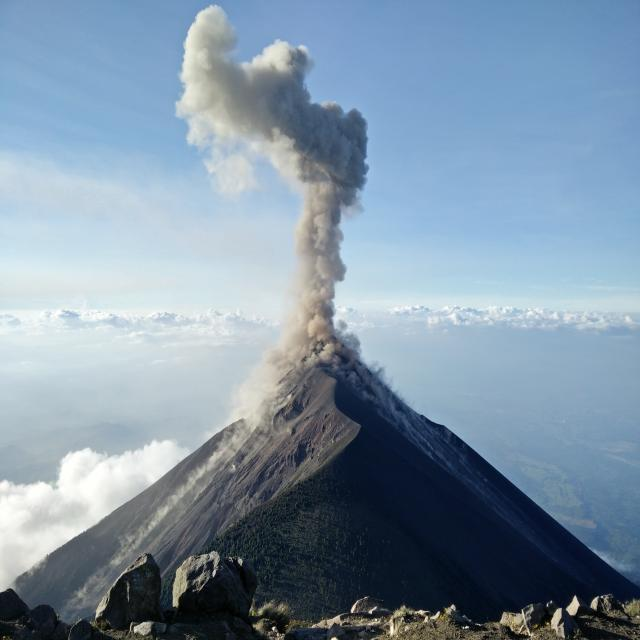Smoke: (184, 10, 372, 384)
